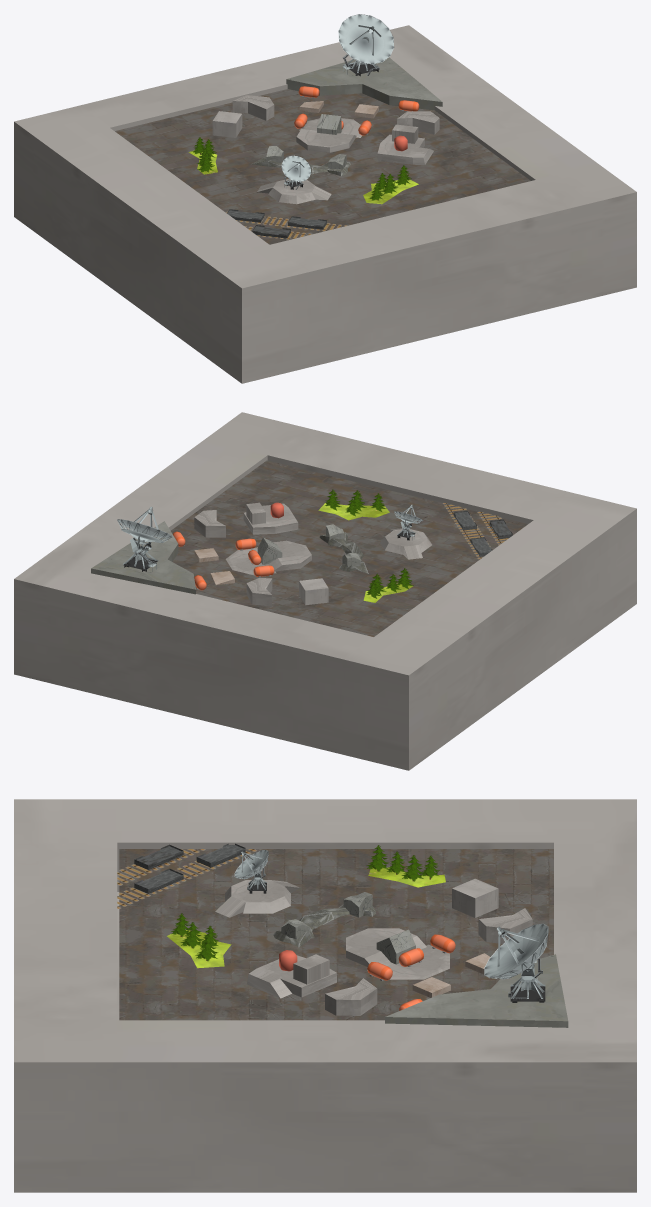
Rendered from TL_core2.glb.
3 renders of one model, top to bottom at view 1: azimuth 30°, elevation 25°; view 2: azimuth 150°, elevation 25°; view 3: azimuth 270°, elevation 25°, orthographic. The views are drawn at different scales.
Visible parts, largest first — view 1: image-removebg-preview(6) - Copy.001, Cube.003, Plane.002; view 2: image-removebg-preview(6) - Copy.001, Cube.003, Plane.002; view 3: image-removebg-preview(6) - Copy.001, Cube.003, Plane.002.
Boxes of the visible parts, bbox=[...] form: image-removebg-preview(6) - Copy.001: bbox=[14, 14, 636, 383]; Cube.003: bbox=[286, 57, 442, 110]; Plane.002: bbox=[189, 150, 418, 204]; image-removebg-preview(6) - Copy.001: bbox=[14, 412, 636, 770]; Cube.003: bbox=[91, 521, 195, 594]; Plane.002: bbox=[318, 503, 412, 602]; image-removebg-preview(6) - Copy.001: bbox=[14, 799, 636, 1192]; Cube.003: bbox=[385, 954, 568, 1027]; Plane.002: bbox=[167, 867, 445, 968].
Bounding box in the file's own units: 2 × 0.7365 × 2.
18 materials, 14 textured.
